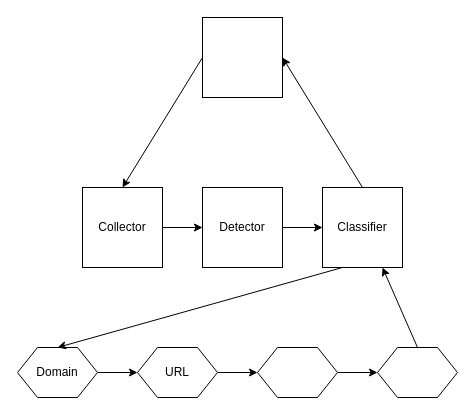
Image size: 475x415. Some labels were removed from this diagram. Each missing label, with the centre of its shape:
ClickFix: the point at 417,372
Executor: the point at 242,57
SSL: the point at 297,372
